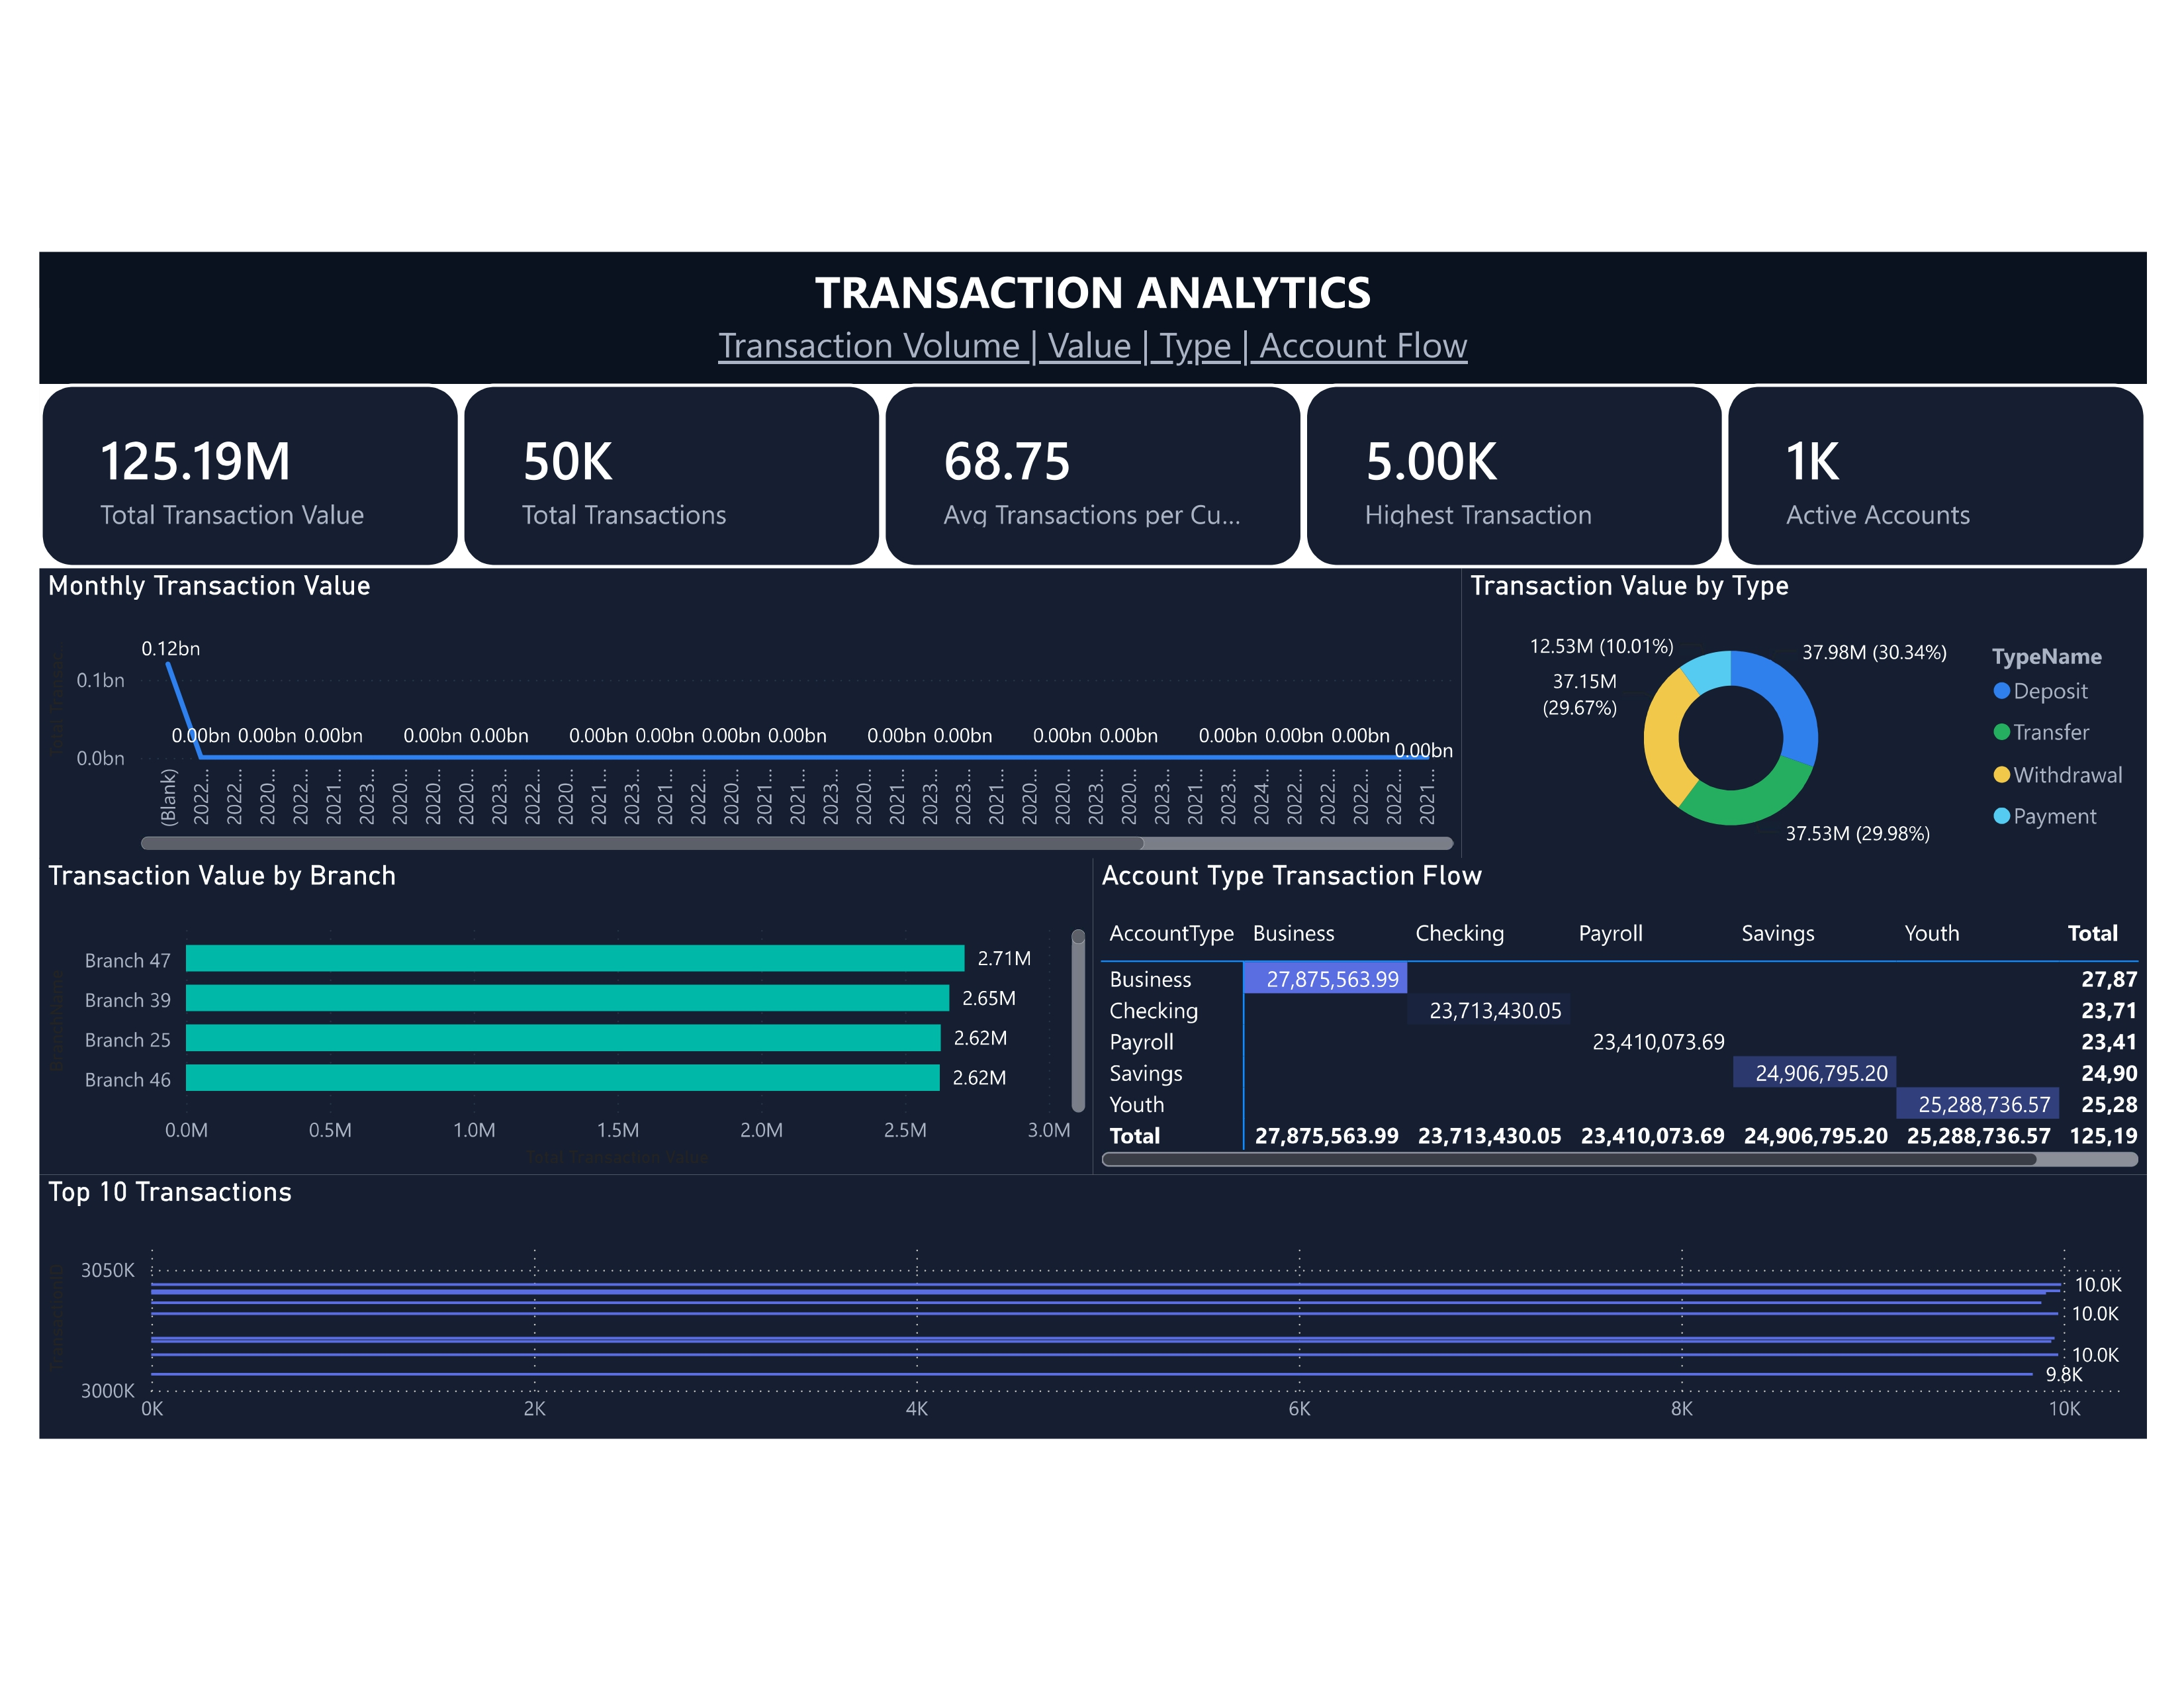

This screenshot's page, from the dashboard's own definition file:
{"tool":"powerbi","page":{"name":"Transaction Analytics","canvas":[1280,720],"ordinal":3},"visuals":[{"type":"textbox","box":[0,0,1280,80],"z":0},{"type":"cardVisual","fields":{"Data":["Measuers.Total Transaction Value"]},"box":[0,80,256,112],"z":1000},{"type":"cardVisual","fields":{"Data":["Measuers.Avg Transactions per Customer"]},"box":[512,80,256,112],"z":2000},{"type":"cardVisual","fields":{"Data":["Measuers.Highest Transaction"]},"box":[768,80,256,112],"z":3000},{"type":"cardVisual","fields":{"Data":["Measuers.Total Transactions"]},"box":[256,80,256,112],"z":4000},{"type":"cardVisual","fields":{"Data":["Measuers.Active Accounts"]},"box":[1024,80,256,112],"z":5000},{"type":"lineChart","title":"Monthly Transaction Value","fields":{"Y":["Measuers.Total Transaction Value"],"Category":["DateTable.Year Month"]},"box":[0,192,864,176],"z":6000},{"type":"donutChart","title":"Transaction Value by Type","fields":{"Y":["Measuers.Total Transaction Value"],"Category":["transaction_types.TypeName"]},"box":[864,192,416,176],"z":7000},{"type":"clusteredBarChart","title":"Transaction Value by Branch","fields":{"Category":["branches.BranchName"],"Y":["Measuers.Total Transaction Value"]},"box":[0,368,640,192],"z":8000},{"type":"clusteredBarChart","title":"Top 10 Transactions","fields":{"Category":["transactions.TransactionID"],"Y":["Sum(transactions.Amount)"]},"box":[0,560,1280,160],"z":9000},{"type":"pivotTable","title":"Account Type Transaction Flow","fields":{"Values":["Measuers.Total Transaction Value"],"Rows":["Origin Account Types.AccountType"],"Columns":["Destination Account Types.AccountType"]},"box":[640,368,640,192],"z":10000}]}

Visuals, with their boxes on the page's 1280x720 design canvas (x1, y1, x2, y2). These are canvas units, not pixel positions in the 2184x1688 screenshot, which may show the page scaled, cropped or inside an application window:
textbox: x1=0 y1=0 x2=1280 y2=80
cardVisual - Measuers.Total Transaction Value: x1=0 y1=80 x2=256 y2=192
cardVisual - Measuers.Avg Transactions per Customer: x1=512 y1=80 x2=768 y2=192
cardVisual - Measuers.Highest Transaction: x1=768 y1=80 x2=1024 y2=192
cardVisual - Measuers.Total Transactions: x1=256 y1=80 x2=512 y2=192
cardVisual - Measuers.Active Accounts: x1=1024 y1=80 x2=1280 y2=192
"Monthly Transaction Value" lineChart: x1=0 y1=192 x2=864 y2=368
"Transaction Value by Type" donutChart: x1=864 y1=192 x2=1280 y2=368
"Transaction Value by Branch" clusteredBarChart: x1=0 y1=368 x2=640 y2=560
"Top 10 Transactions" clusteredBarChart: x1=0 y1=560 x2=1280 y2=720
"Account Type Transaction Flow" pivotTable: x1=640 y1=368 x2=1280 y2=560
